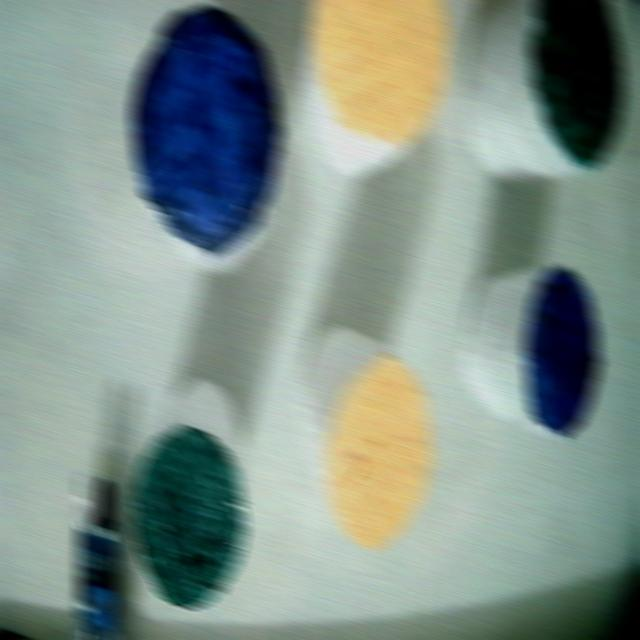blue: (130, 5, 283, 256), (526, 267, 599, 434)
green: (131, 426, 246, 607), (529, 0, 624, 167)
yellow: (323, 360, 432, 548), (309, 0, 450, 143)
